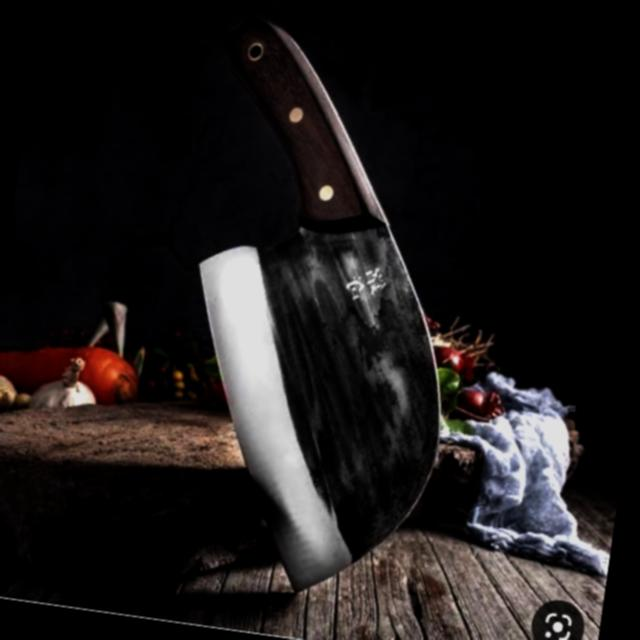knife: (122, 4, 500, 623)
